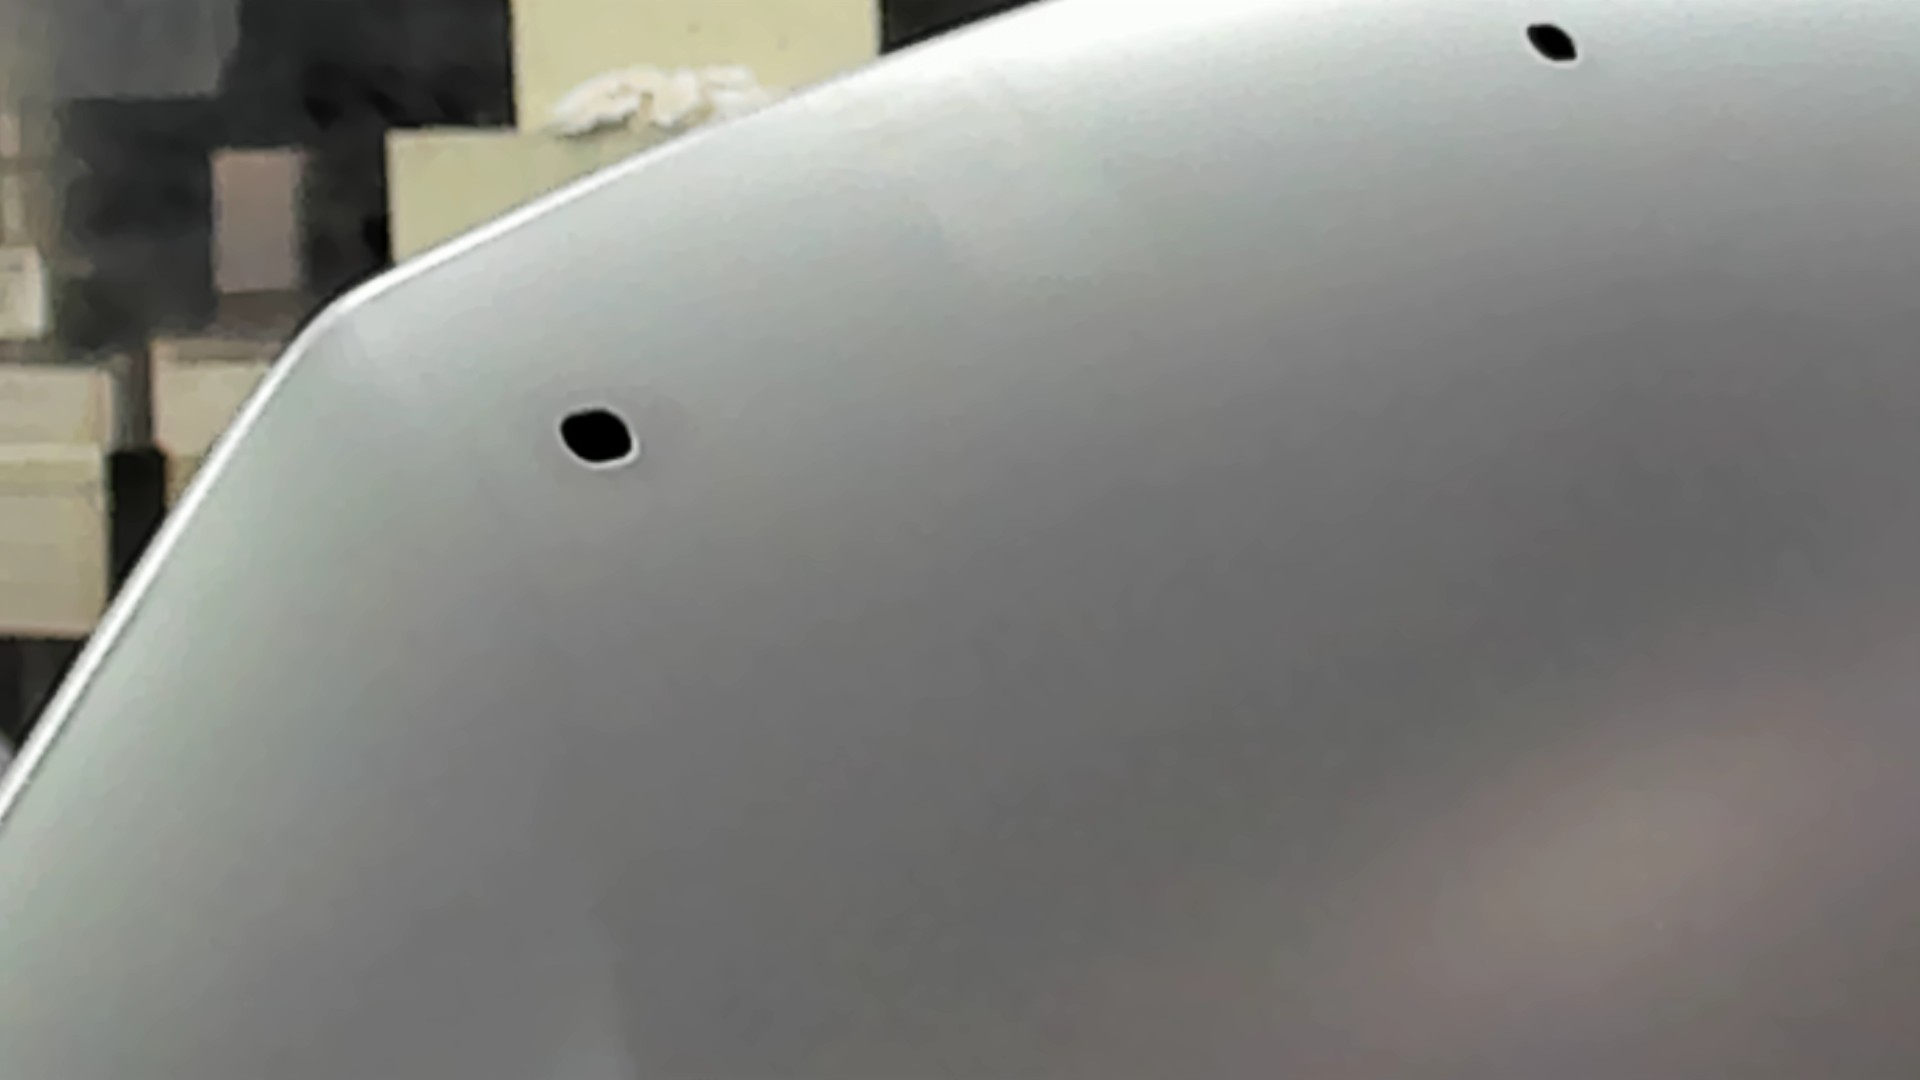amorfo: (551, 401, 641, 467), (1520, 17, 1584, 70)
capo: (795, 156, 1920, 1080)
